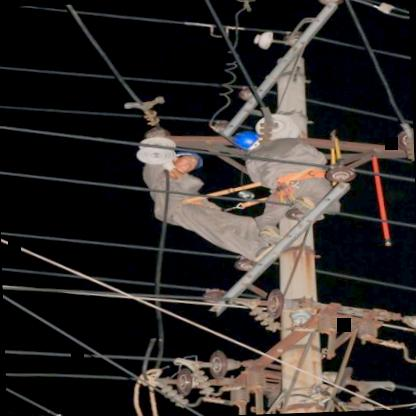helmet: (166, 148, 207, 174), (232, 129, 271, 155)
